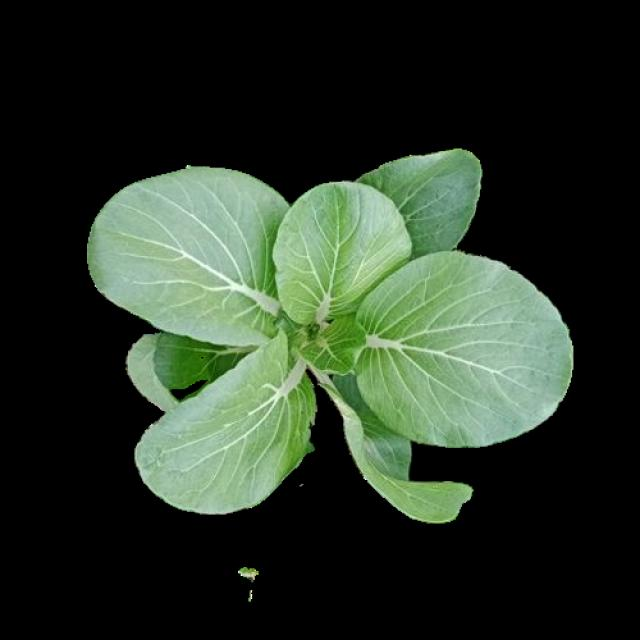healthy: (84, 150, 566, 514)
mature: (87, 152, 568, 517)
